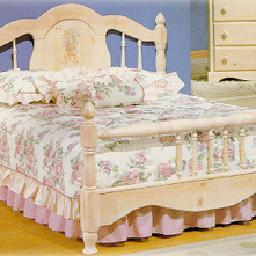Cama: (3, 24, 255, 235)
